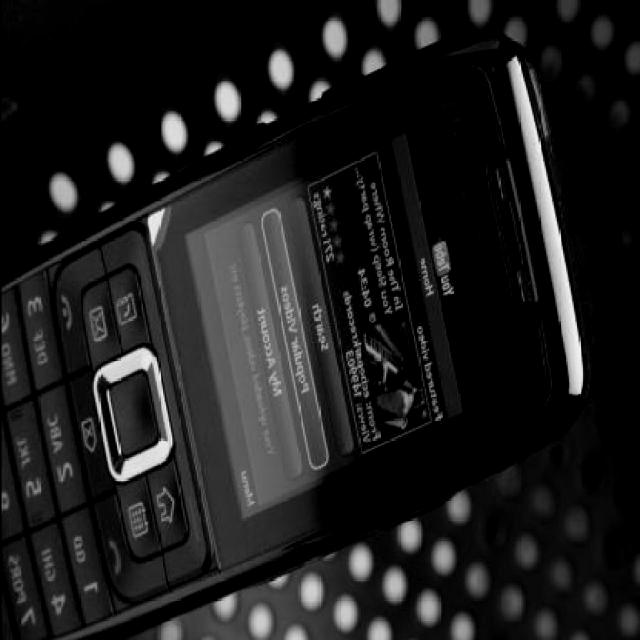fake: (6, 32, 600, 640)
